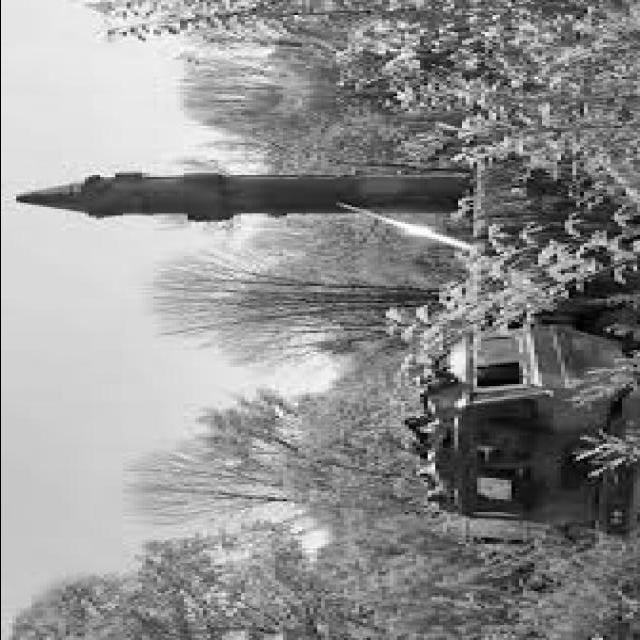missile: (7, 165, 472, 227)
